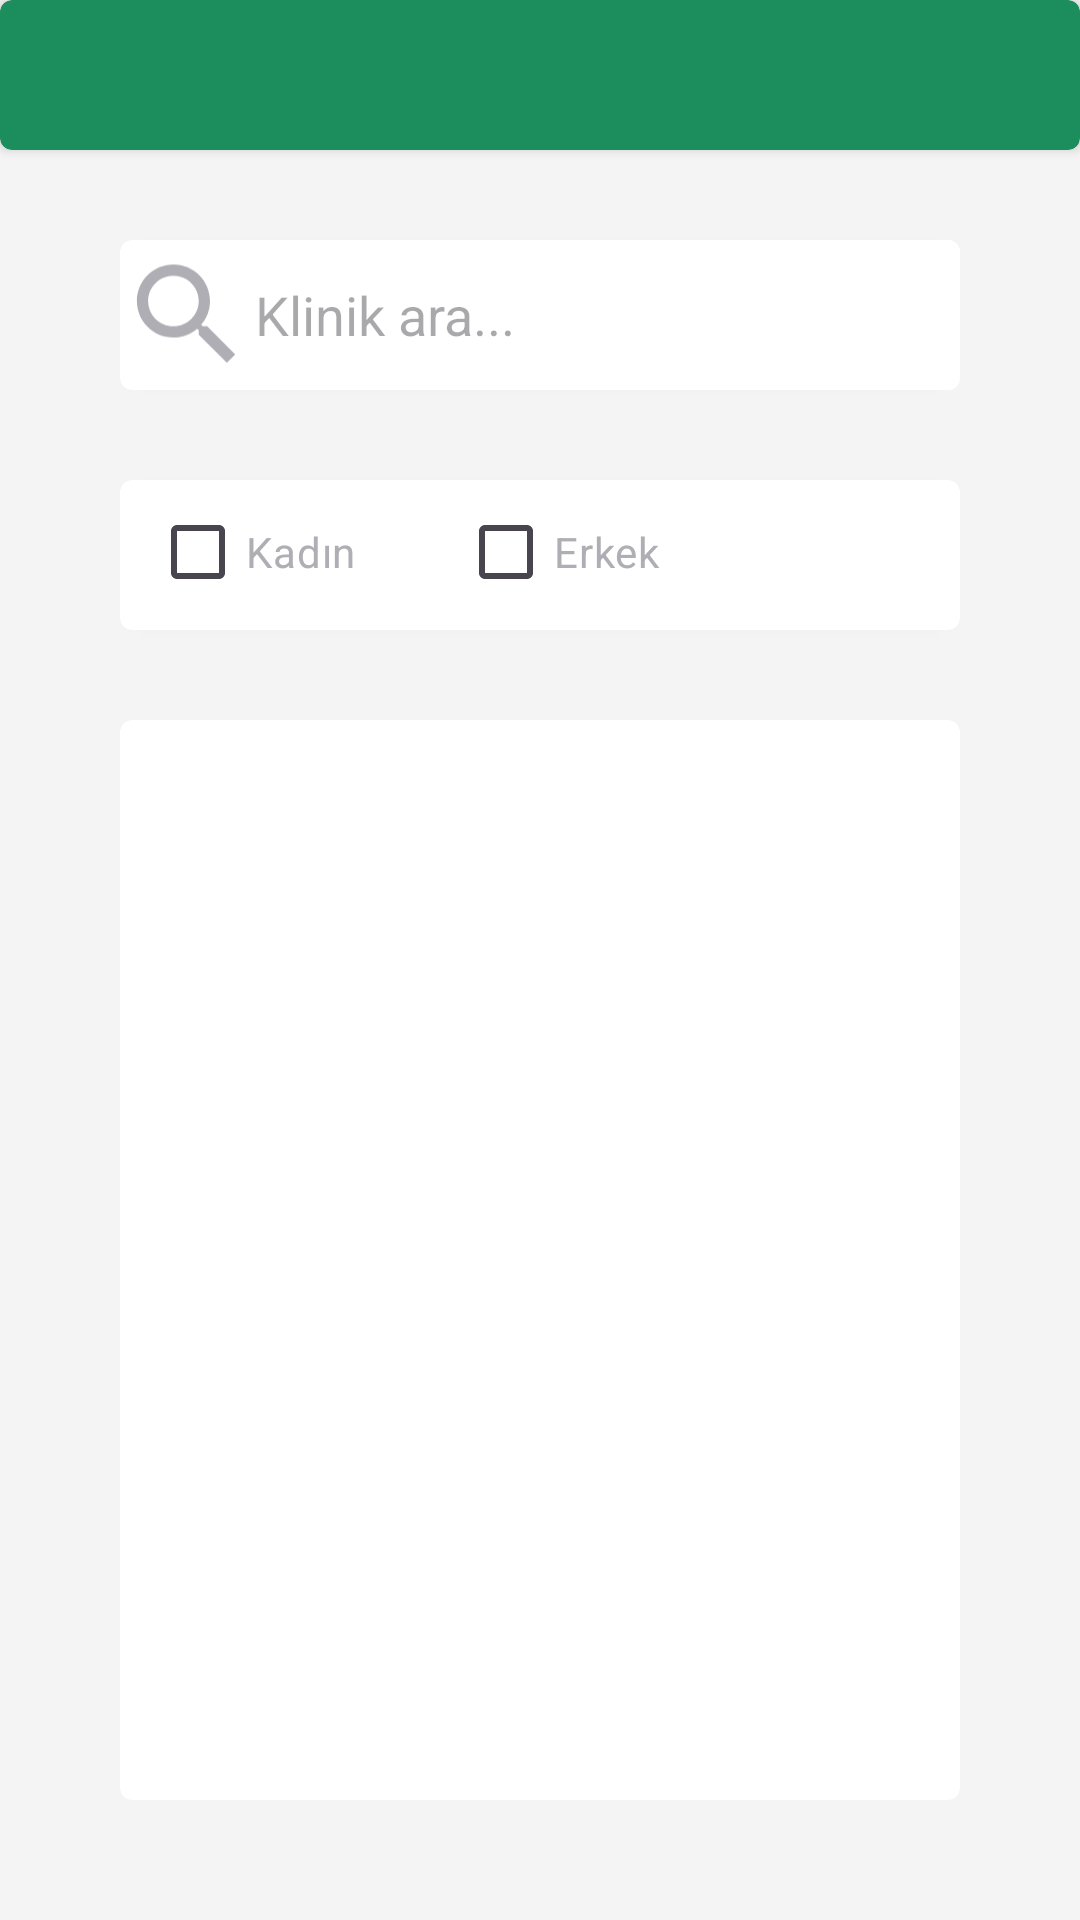

Icons on this 1080w x 1920h Android screen, each with its box as {"x1": x1, "y1": y1, "x2": x2, "y2": y2}:
search: {"x1": 120, "y1": 240, "x2": 255, "y2": 390}
